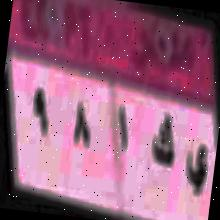8: (69, 101, 94, 154)
9: (27, 85, 53, 144)
alif: (111, 100, 133, 155)
kaaf: (147, 109, 180, 178)
yaa: (180, 136, 212, 204)
